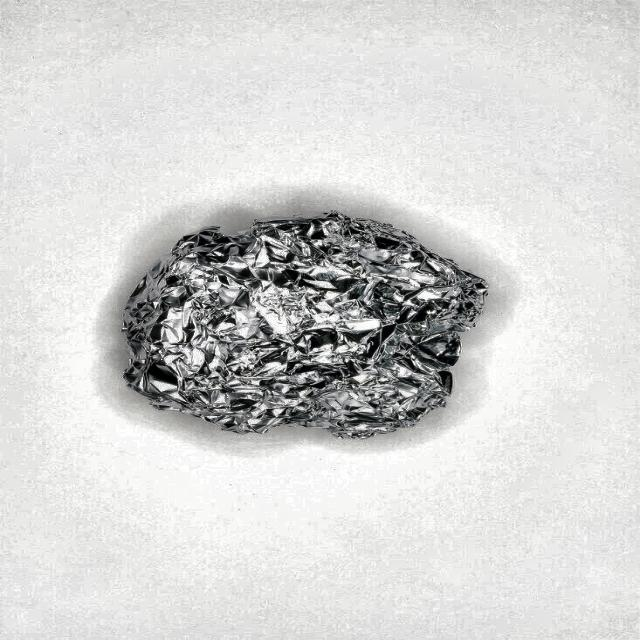Foil: (107, 192, 533, 478)
